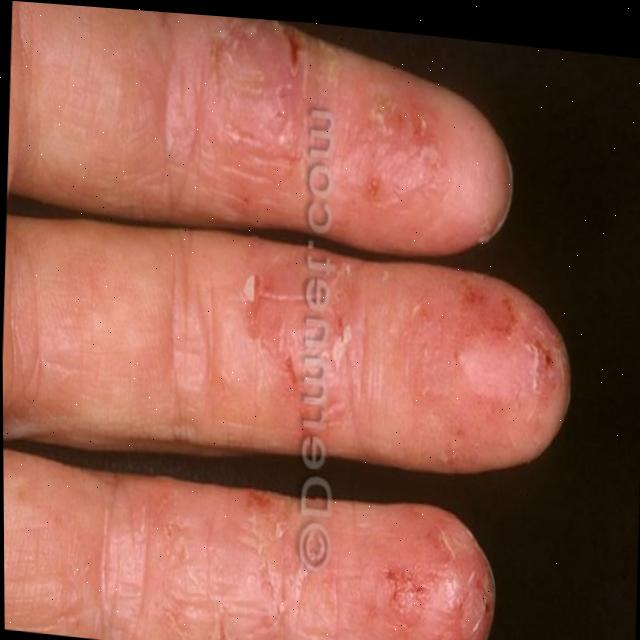Eczema: (215, 87, 483, 639)
